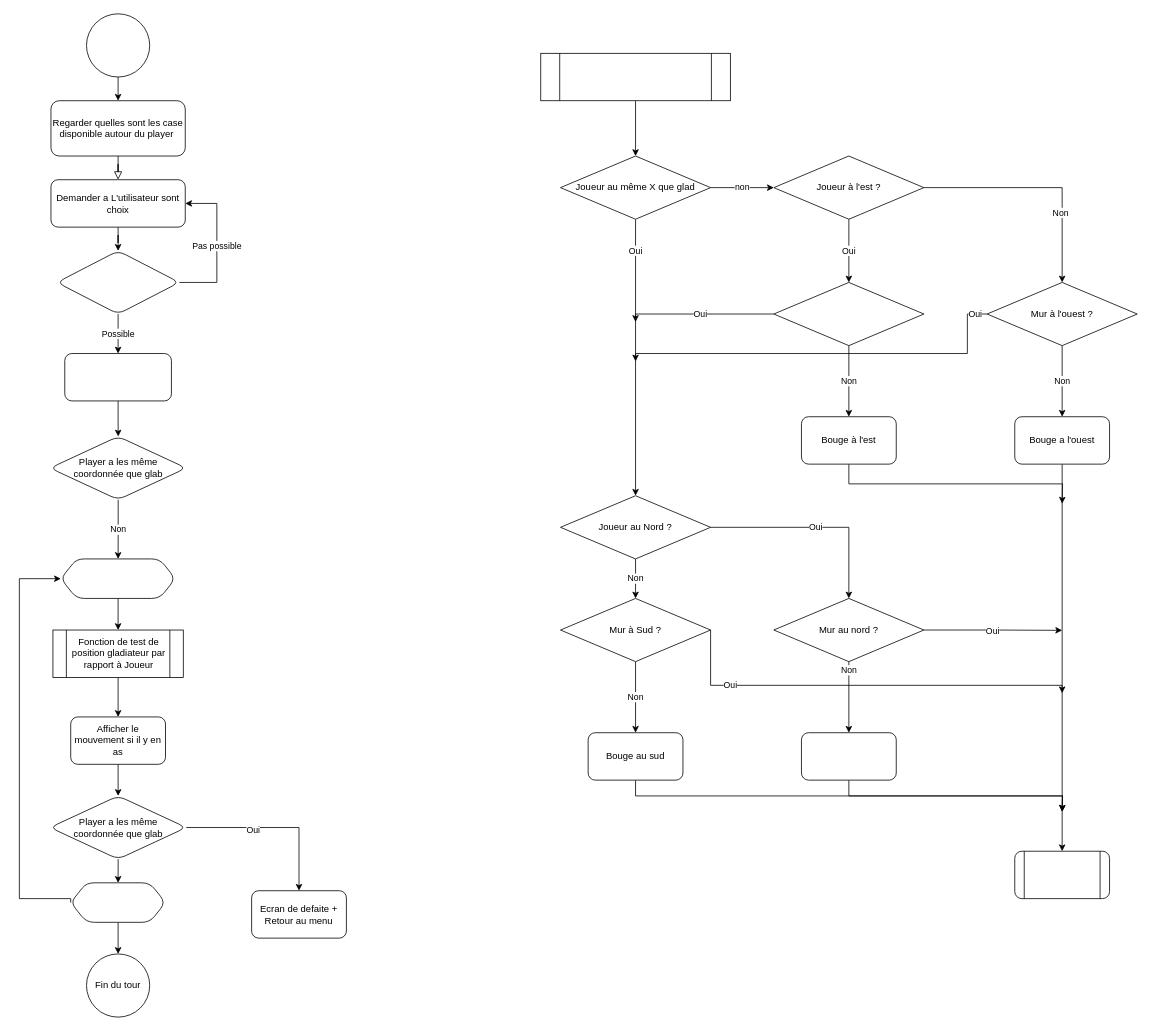
This 1151x1031 diagram has some shape labels left out. Each missing label, with the box of its shape:
Bouge au Nord: (801, 732, 896, 780)
Début faire deux fois: (60, 558, 175, 598)
Début tour: (86, 13, 150, 77)
Effectuer le mouvement du joueur Et l'afficher: (64, 353, 171, 401)
Fin Faire deux fois: (70, 882, 166, 922)
Fin fonction: (1014, 850, 1110, 899)
Fonction déplacement gladiateur: (540, 53, 730, 101)
Mur à l'est ?: (773, 282, 924, 346)
Si le choix est possible: (56, 250, 179, 314)
